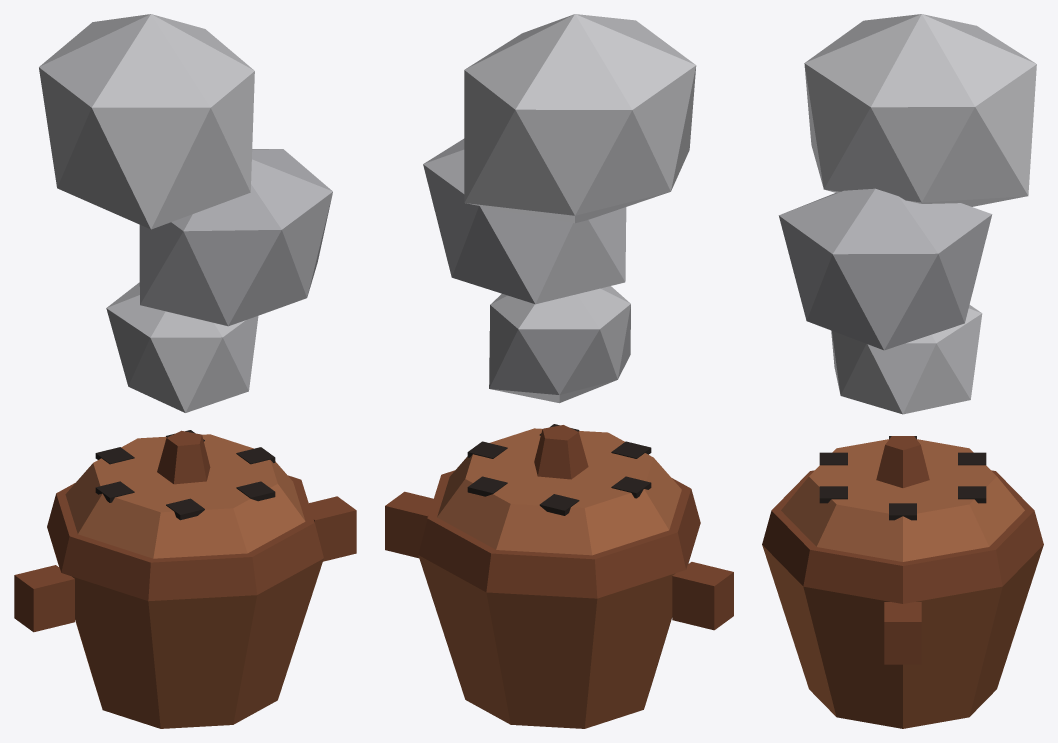
File: smoke_pot.glb
3 views of the same model, side by side, from view 1: azimuth 30°, elevation 25°; view 2: azimuth 150°, elevation 25°; view 3: azimuth 270°, elevation 25° (orthographic). The views are drawn at different scales.
Parts seen in each view (by area): view 1: Smoke, smoke_pot; view 2: smoke_pot, Smoke; view 3: Smoke, smoke_pot.
Part boxes in pixels (box(x1,y1,x2,y2)): Smoke: box(39, 14, 332, 412); smoke_pot: box(14, 430, 356, 728); smoke_pot: box(385, 424, 733, 728); Smoke: box(423, 14, 696, 403); Smoke: box(778, 14, 1036, 414); smoke_pot: box(762, 436, 1043, 728).
Bounding box in the file's own units: 0.39 × 0.779 × 0.3.
